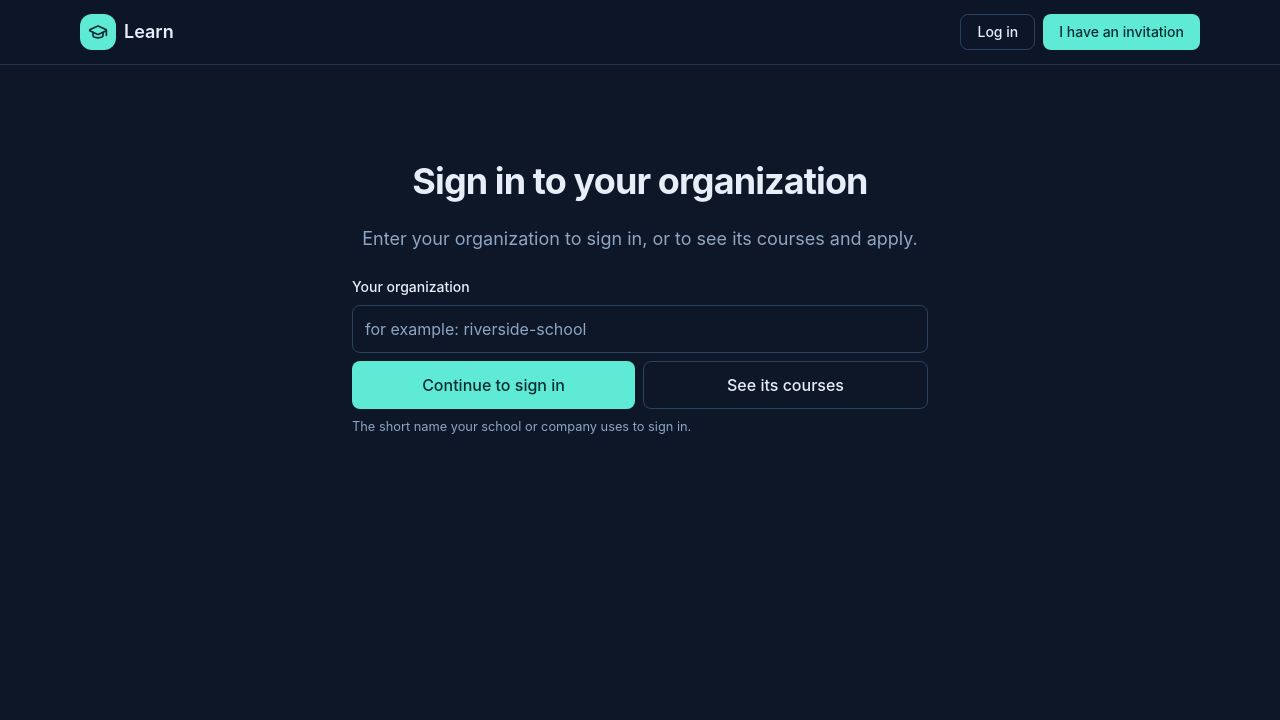
it: LandingPage › on the shared portal refuses an empty or malformed organization and can preview the organization's courses
Check: the field labelled "Your organization" is shown, box [352, 305, 928, 353]
Click the button "Continue to sign in". click: (494, 385)
box: [352, 361, 635, 409]
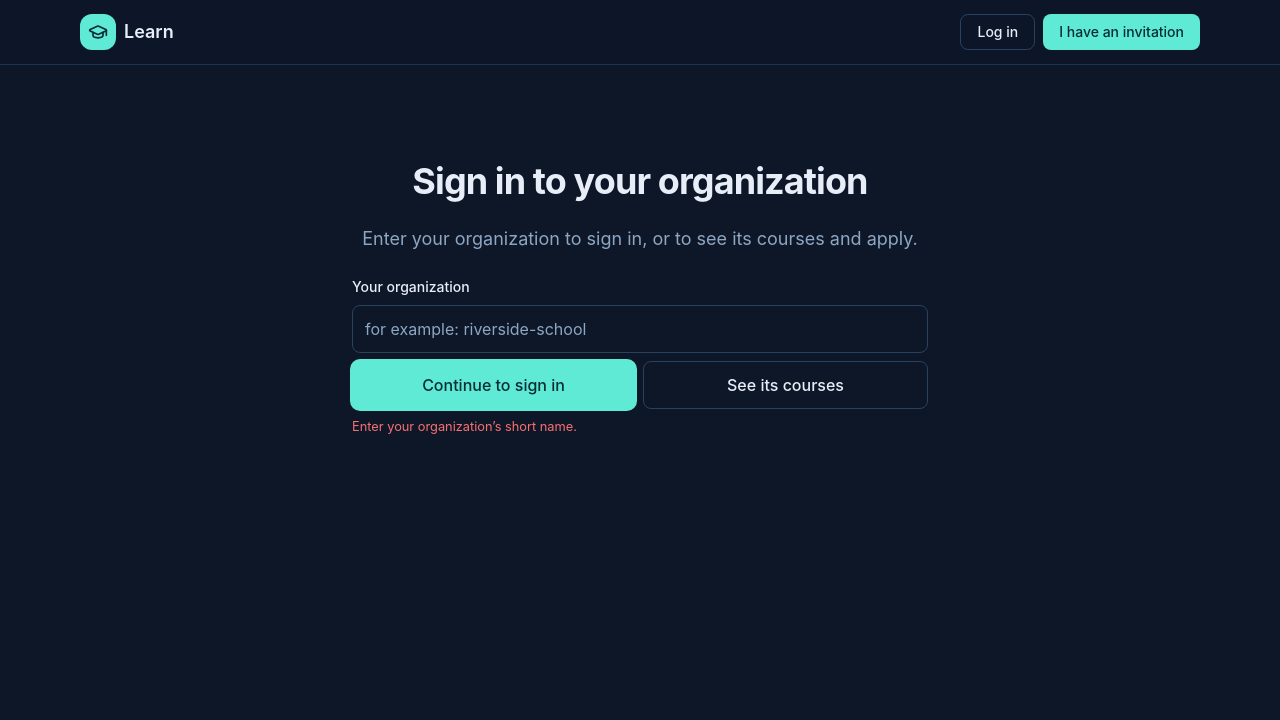
Check: the text "Enter your organization’s short name." is shown, box [352, 419, 577, 434]
Type " Acme " into the field labelled "Your organization". click: (640, 329)
box: [352, 305, 928, 353]
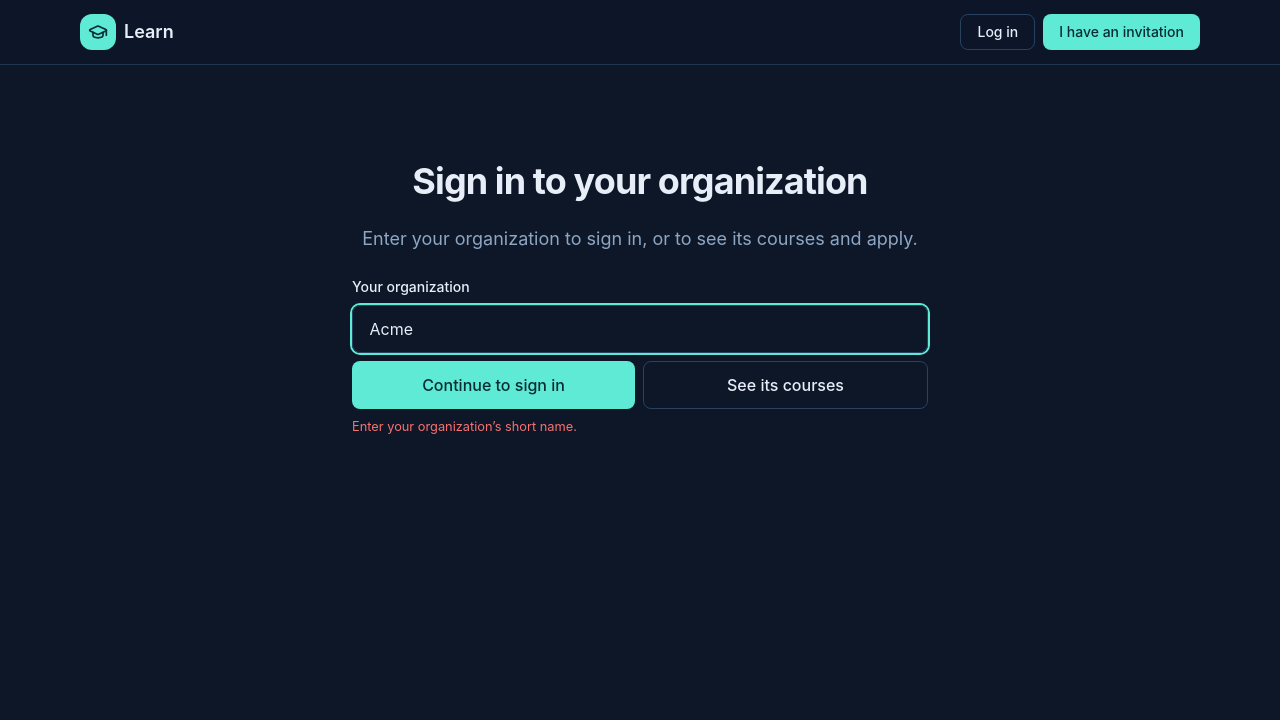
Click the button "See its courses". click: (786, 385)
box: [643, 361, 928, 409]
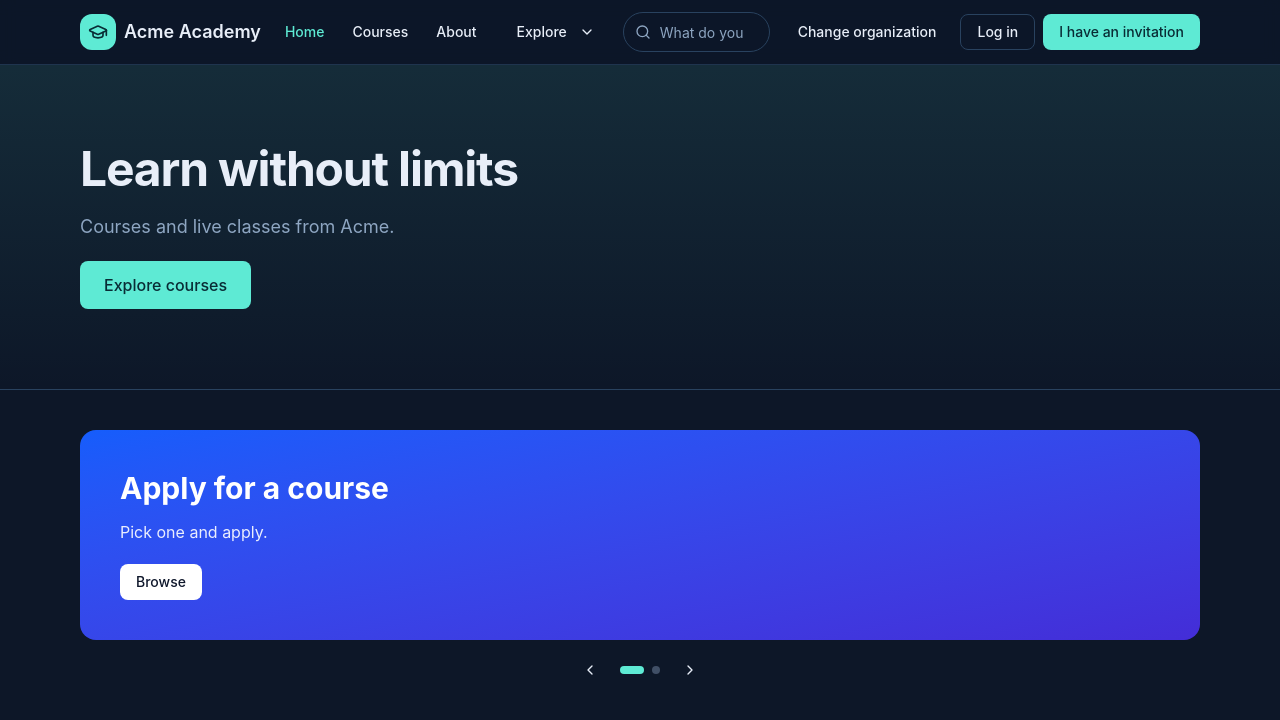
Check: the heading "Learn without limits" is shown, box [80, 145, 518, 193]
Click the button "Change organization". click: (867, 32)
box: [782, 14, 952, 50]
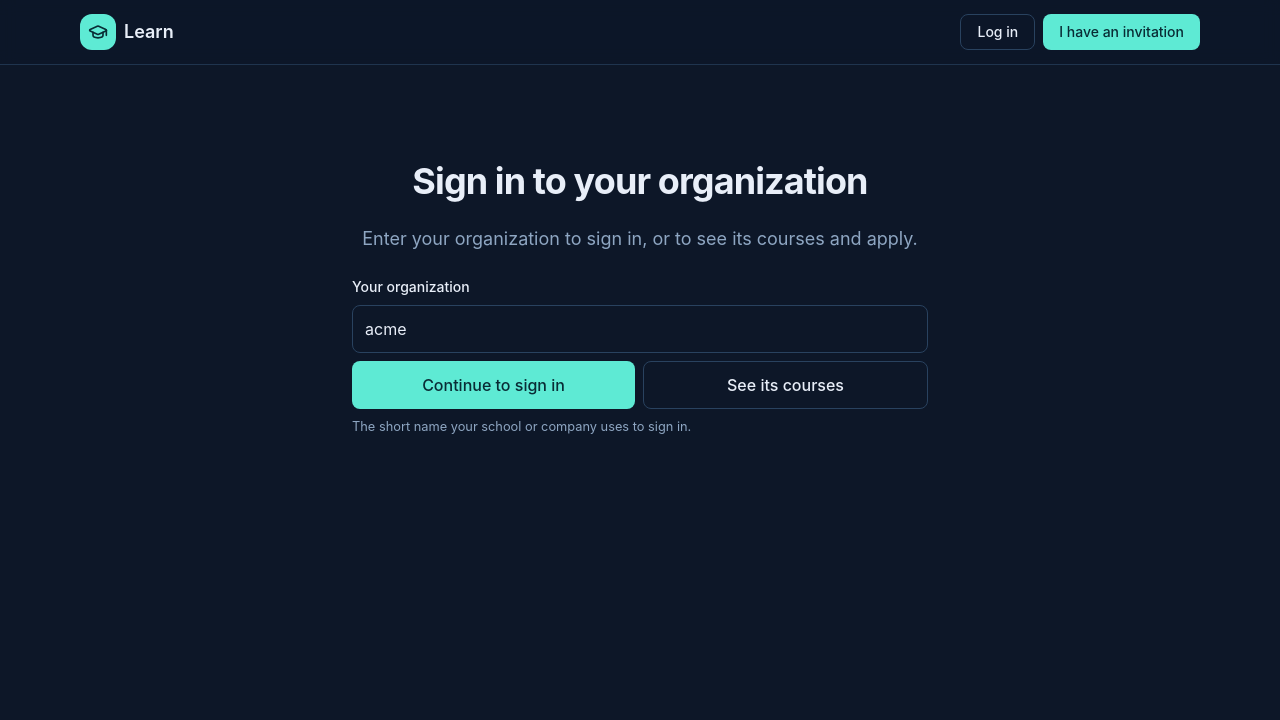
Check: the heading "Sign in to your organization" is shown, box [412, 159, 868, 203]
